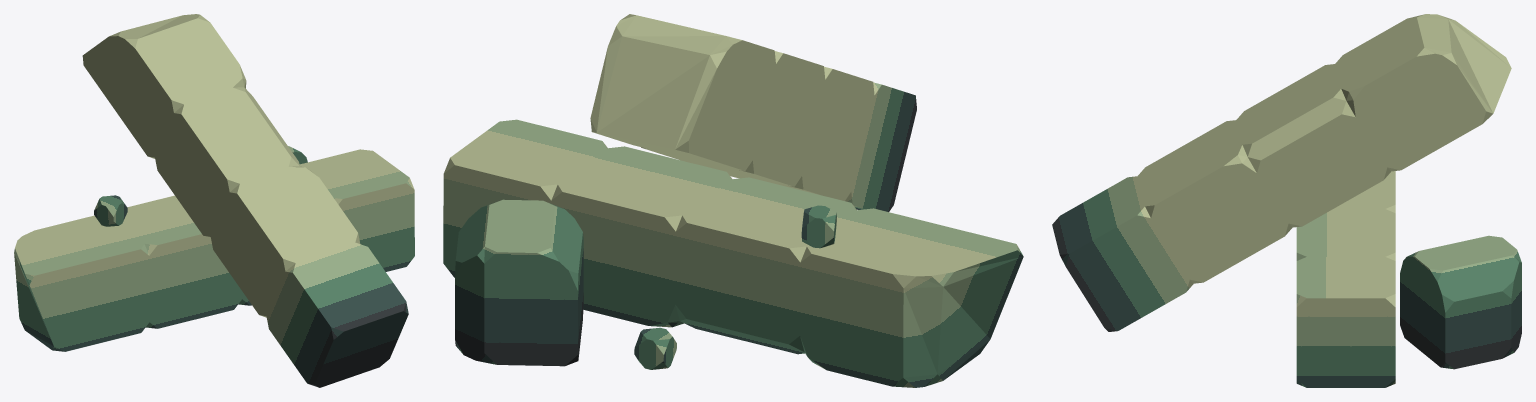
File: Fallen Pillar 2.003.fbx
3 views of the same model, side by side, from view 1: azimuth 30°, elevation 25°; view 2: azimuth 150°, elevation 25°; view 3: azimuth 270°, elevation 25° (orthographic). The views are drawn at different scales.
Parts seen in each view (by area): view 1: Fallen Pillar 2.003; view 2: Fallen Pillar 2.003; view 3: Fallen Pillar 2.003.
Part boxes in pixels (x1,y1,x2,y2): Fallen Pillar 2.003: (14,14,414,387); Fallen Pillar 2.003: (443,14,1023,387); Fallen Pillar 2.003: (1052,14,1521,387).
Bounding box in the file's own units: 416 × 260 × 411.
